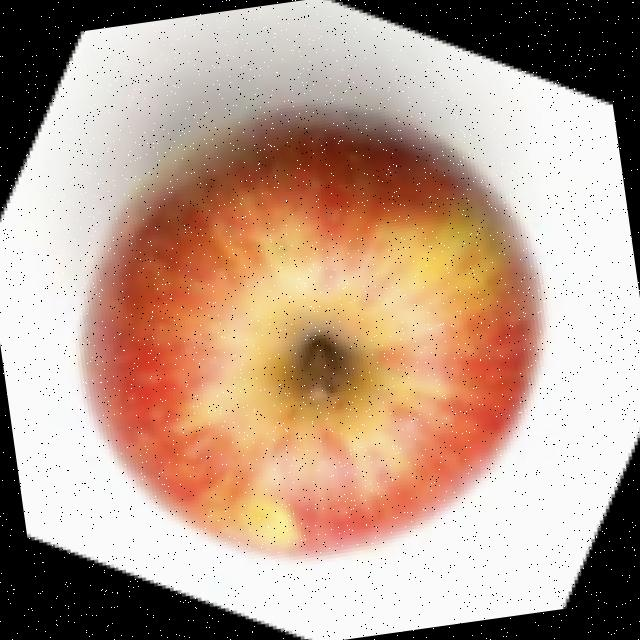Ripe: (41, 86, 578, 594)
